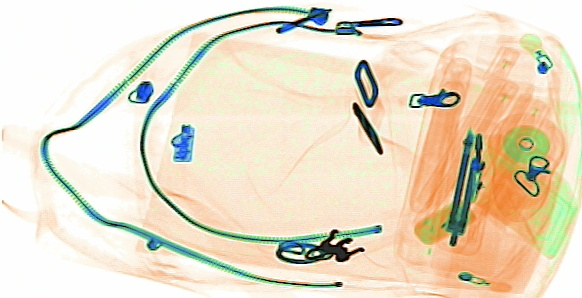lighter: (412, 197, 474, 246)
